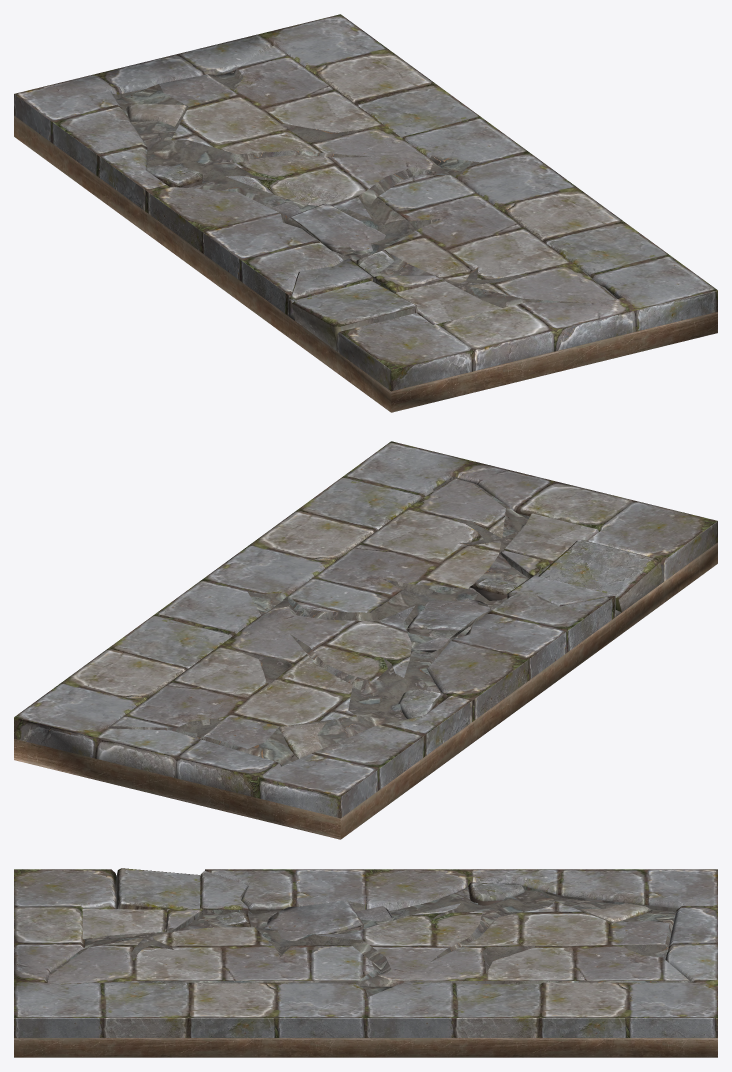
The picture shows the model from 3 angles, top to bottom: view 1: azimuth 30°, elevation 25°; view 2: azimuth 150°, elevation 25°; view 3: azimuth 270°, elevation 25°; orthographic projection. The views are drawn at different scales.
Visible parts, largest first — view 1: SM_Greathall_Floor_8x4_Dmg_01_LOD0; view 2: SM_Greathall_Floor_8x4_Dmg_01_LOD0; view 3: SM_Greathall_Floor_8x4_Dmg_01_LOD0.
Part boxes in pixels (box(x1,y1,x2,y2)): SM_Greathall_Floor_8x4_Dmg_01_LOD0: box(14, 14, 717, 412); SM_Greathall_Floor_8x4_Dmg_01_LOD0: box(14, 441, 717, 839); SM_Greathall_Floor_8x4_Dmg_01_LOD0: box(14, 868, 717, 1057).
Bounding box in the file's own units: 4 × 0.5508 × 8.
3 materials, 3 textured.
